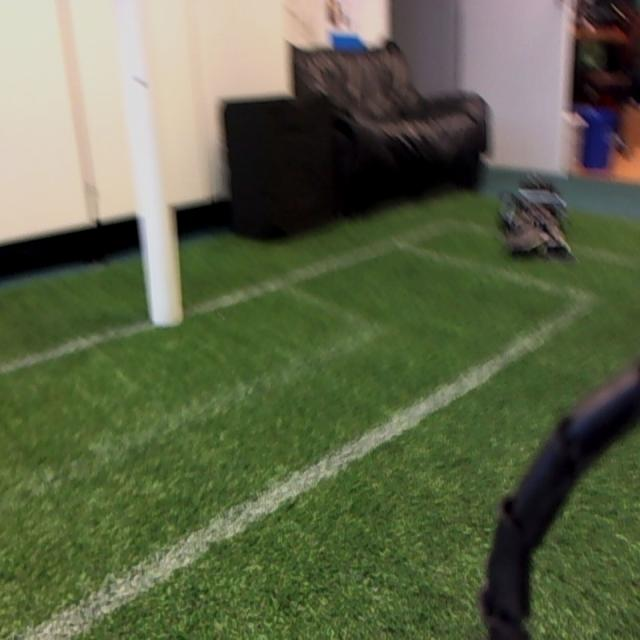goalpost: (120, 4, 184, 323)
